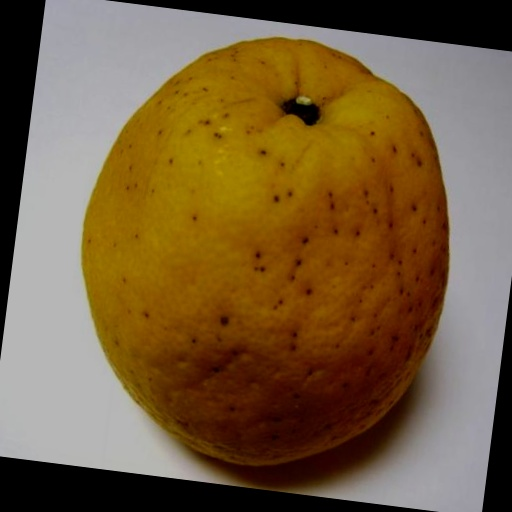fruit: (82, 38, 448, 465)
